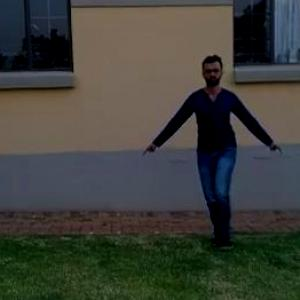land: (162, 63, 270, 229)
